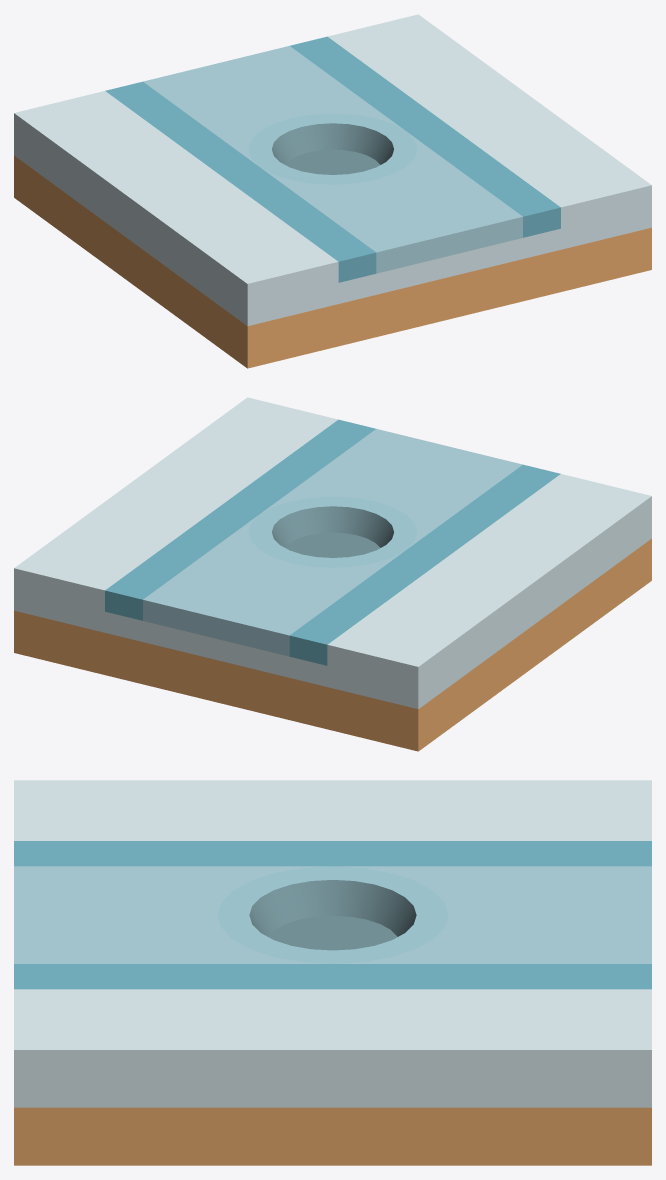
The model's file is snow_tile_spawnRound(+).fbx.
3 views of the same model, one above another, from view 1: azimuth 30°, elevation 25°; view 2: azimuth 150°, elevation 25°; view 3: azimuth 270°, elevation 25° (orthographic). The views are drawn at different scales.
Visible parts, largest first — view 1: Mesh_2.001; view 2: Mesh_2.001; view 3: Mesh_2.001.
Boxes of the visible parts, x1,y1,x2,y2 form: Mesh_2.001: (14,14,651,368); Mesh_2.001: (14,397,651,751); Mesh_2.001: (14,780,651,1165).
Size of the model in its own units: 100 by 20 by 100.
